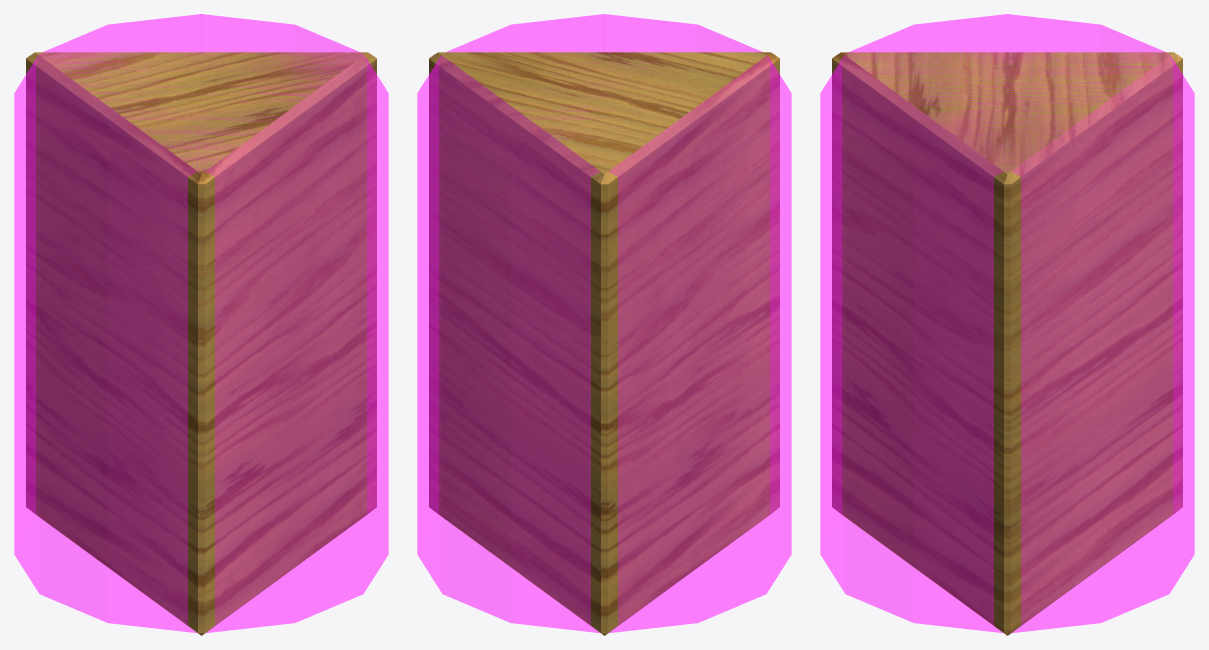
Rendered from tumiki_F.fbx.
3 views of the same model, side by side, from view 1: azimuth 30°, elevation 25°; view 2: azimuth 150°, elevation 25°; view 3: azimuth 270°, elevation 25° (orthographic).
Visible parts, largest first — view 1: boundingbox, tumiki_F; view 2: boundingbox, tumiki_F; view 3: boundingbox, tumiki_F.
Boxes of the visible parts, bbox=[...] form: boundingbox: bbox=[14, 14, 388, 632]; tumiki_F: bbox=[26, 52, 376, 635]; boundingbox: bbox=[417, 14, 791, 632]; tumiki_F: bbox=[429, 52, 779, 635]; boundingbox: bbox=[820, 14, 1194, 632]; tumiki_F: bbox=[832, 52, 1182, 635].
Bounding box in the file's own units: 2.69 × 3.54 × 2.6.
Materials: 2 (1 with a texture image).
